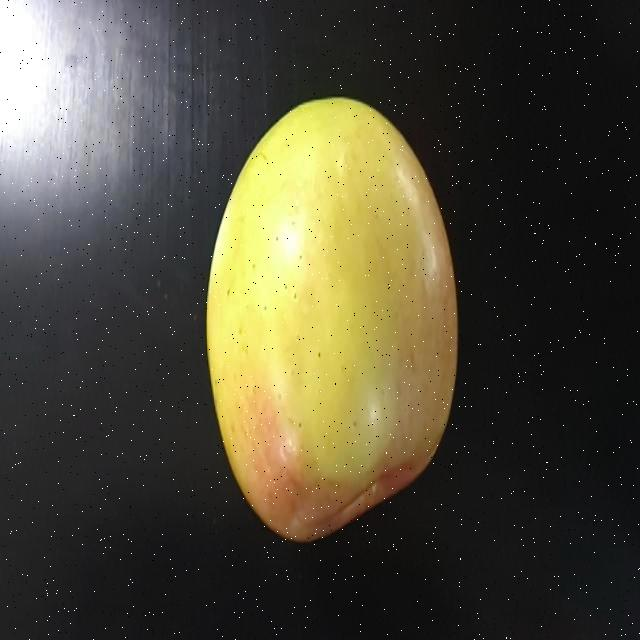Apel Merah: (198, 92, 472, 555)
